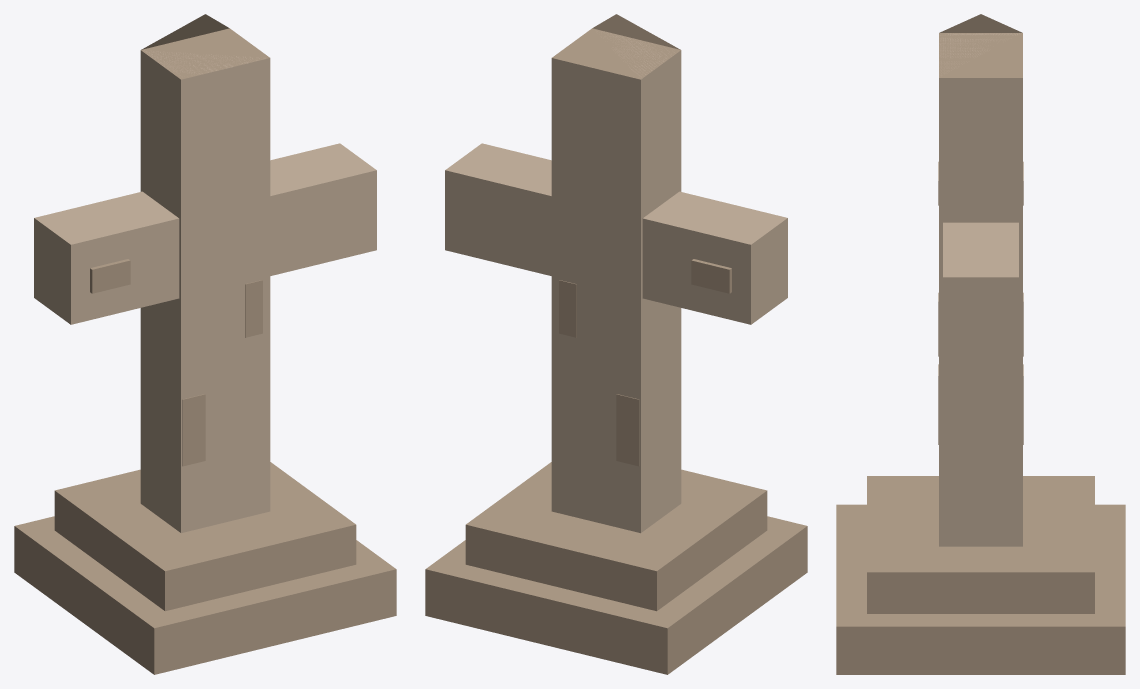
File: hrbitov_kriz.glb
3 renders of one model, left to right at view 1: azimuth 30°, elevation 25°; view 2: azimuth 150°, elevation 25°; view 3: azimuth 270°, elevation 25°, orthographic. The views are drawn at different scales.
Parts seen in each view (by area): view 1: HrbitovKriz_mud, HrbitovKriz_mud2; view 2: HrbitovKriz_mud, HrbitovKriz_mud2; view 3: HrbitovKriz_mud2, HrbitovKriz_mud.
Boxes of the visible parts, bbox=[...] form: HrbitovKriz_mud: bbox=[34, 50, 376, 533]; HrbitovKriz_mud2: bbox=[14, 14, 396, 674]; HrbitovKriz_mud: bbox=[445, 29, 787, 533]; HrbitovKriz_mud2: bbox=[425, 14, 807, 674]; HrbitovKriz_mud2: bbox=[836, 14, 1125, 674]; HrbitovKriz_mud: bbox=[939, 33, 1022, 546].
Size of the model in its own units: 2.4 by 4.35 by 1.9.
